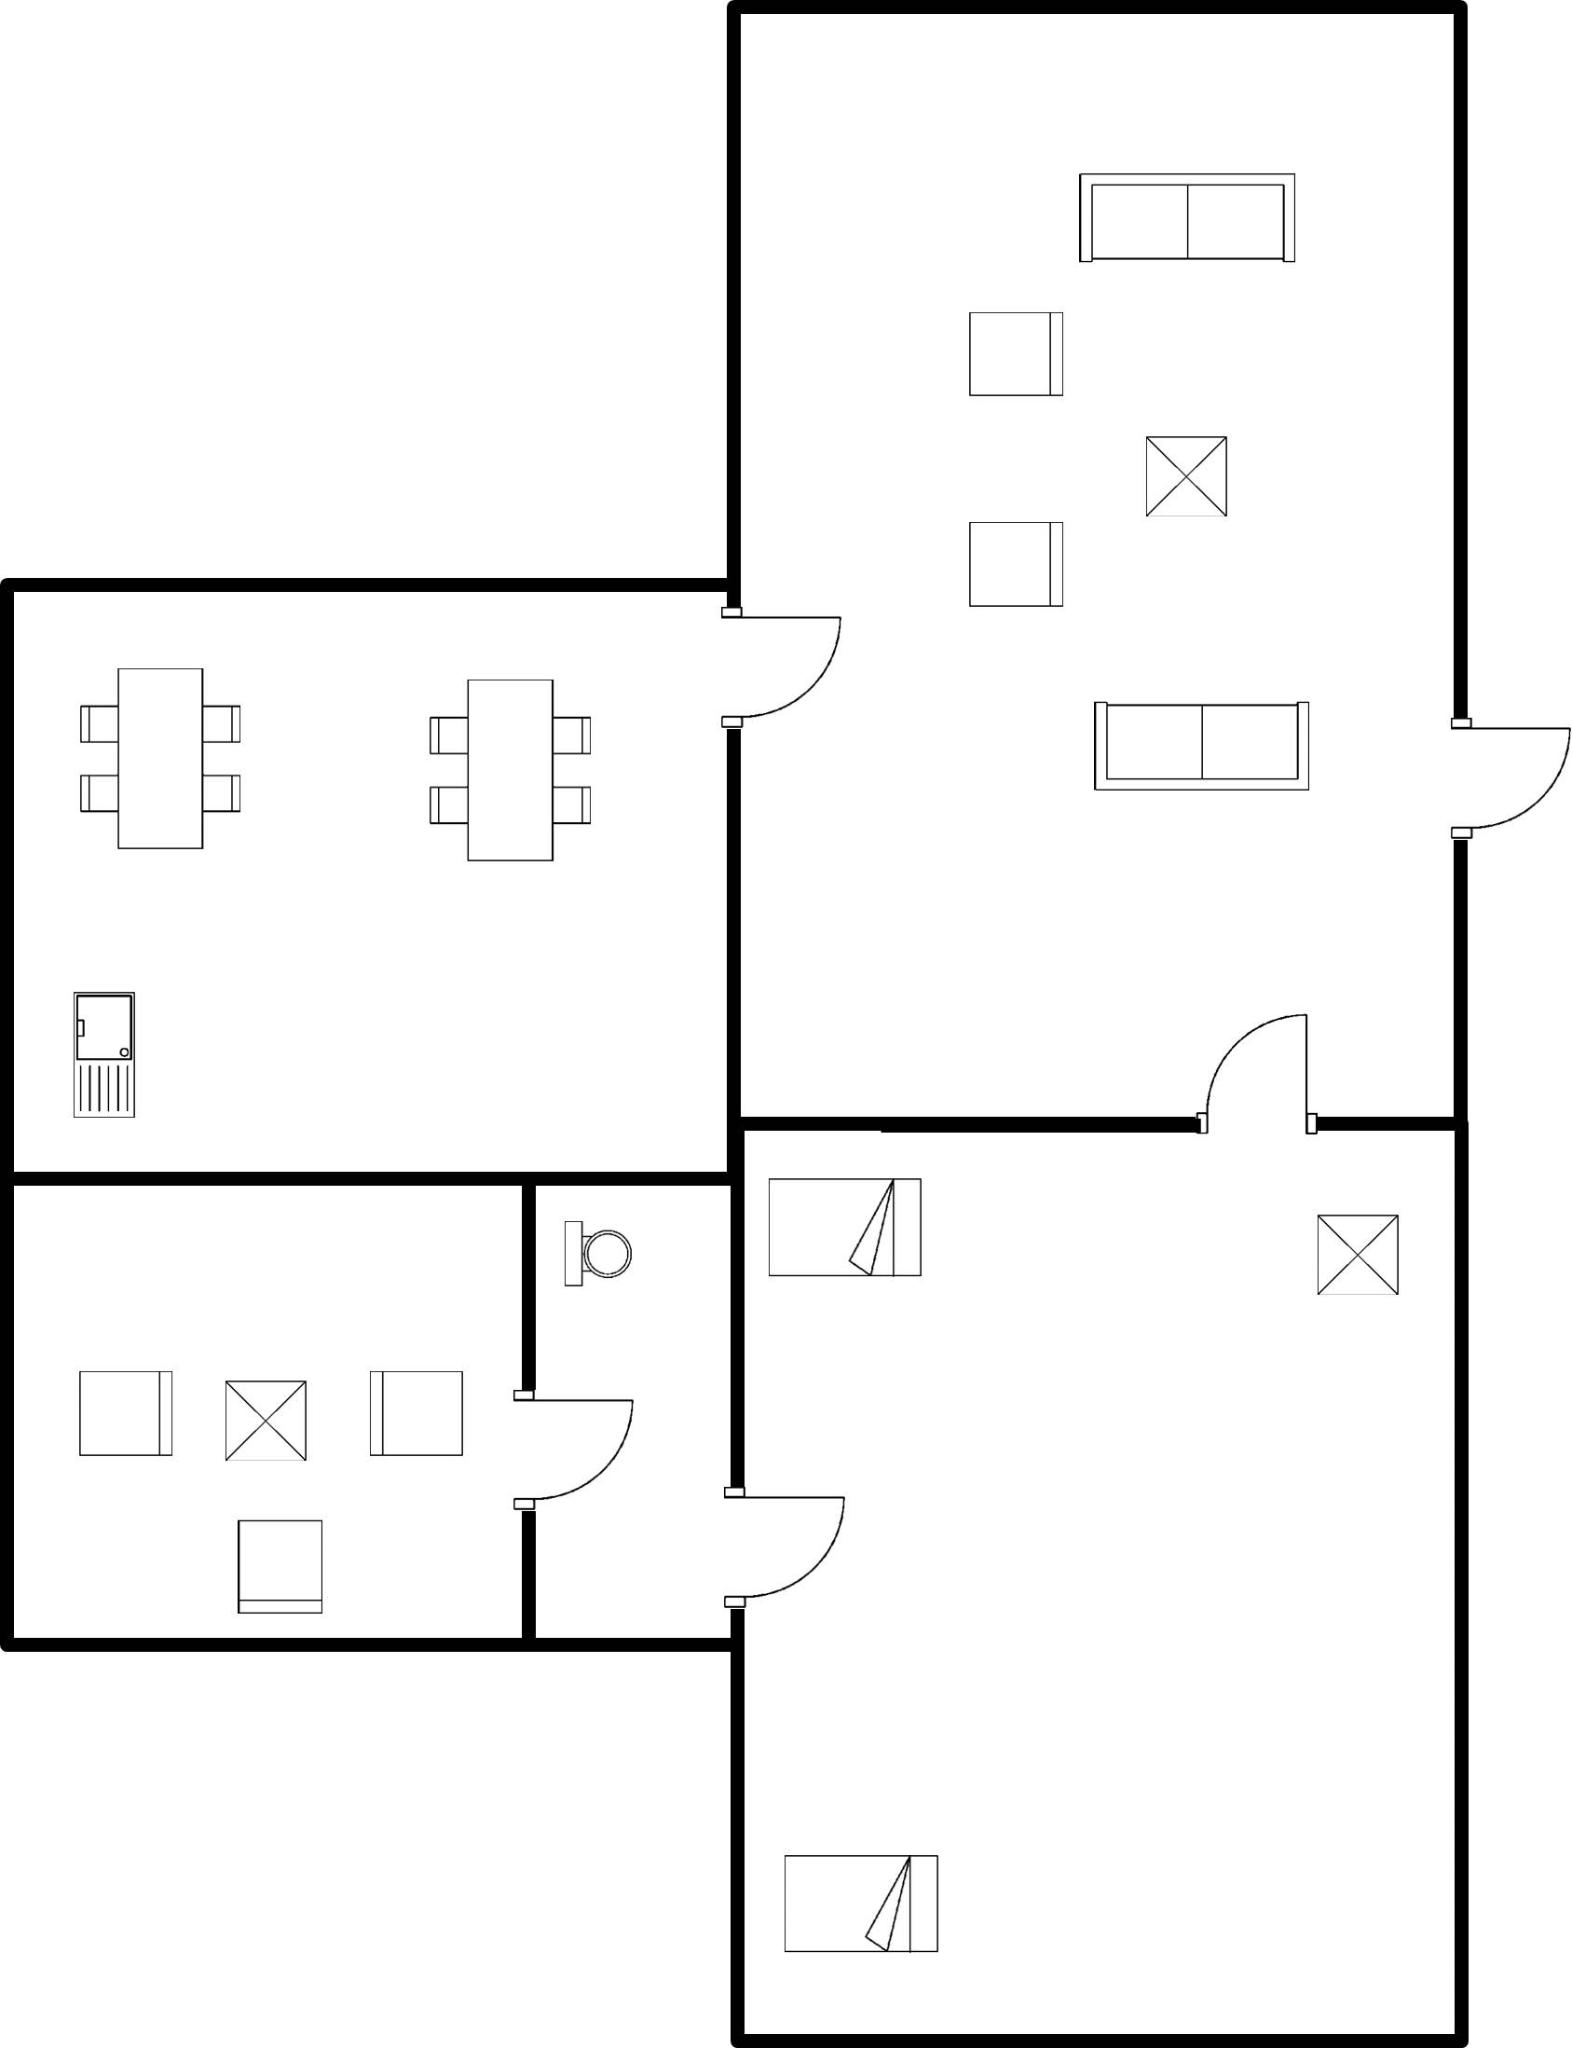bed: (761, 1838, 953, 1967), (760, 1156, 936, 1292)
dining_table: (64, 654, 254, 865), (411, 661, 598, 875)
sink: (54, 976, 155, 1128)
sofa: (1073, 689, 1321, 799), (1067, 162, 1306, 276)
